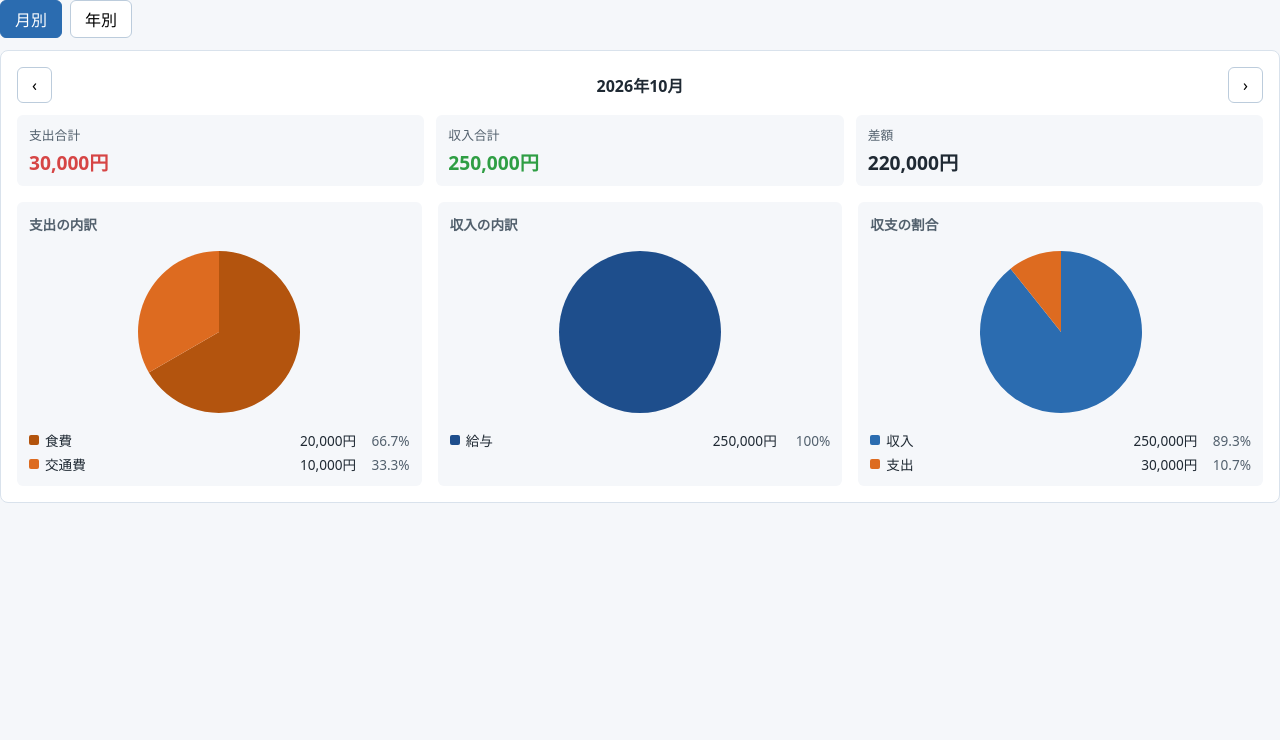
Test case: SummaryView › switches the year
The width and height of the screenshot is (1280, 740).
Click the tab "年別": (101, 19) [70,0,132,38]
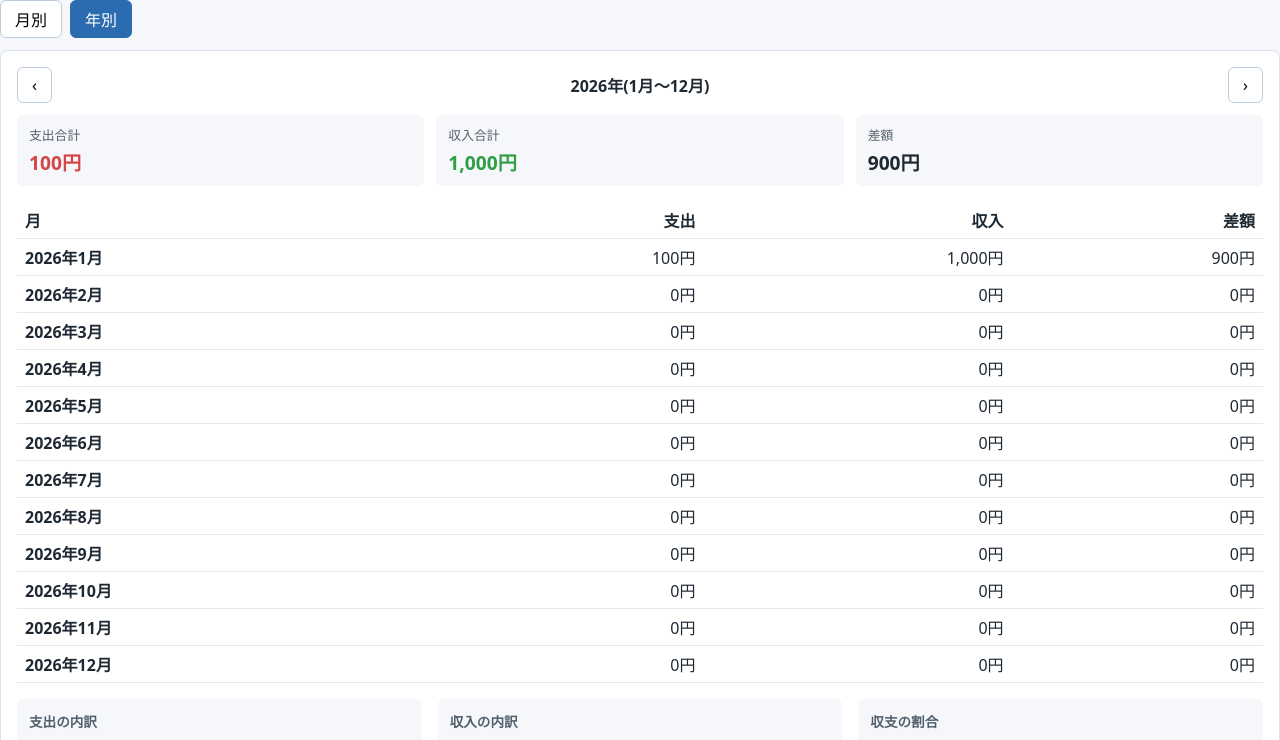
Click the button named "前の年": (34, 85) [17,67,52,103]
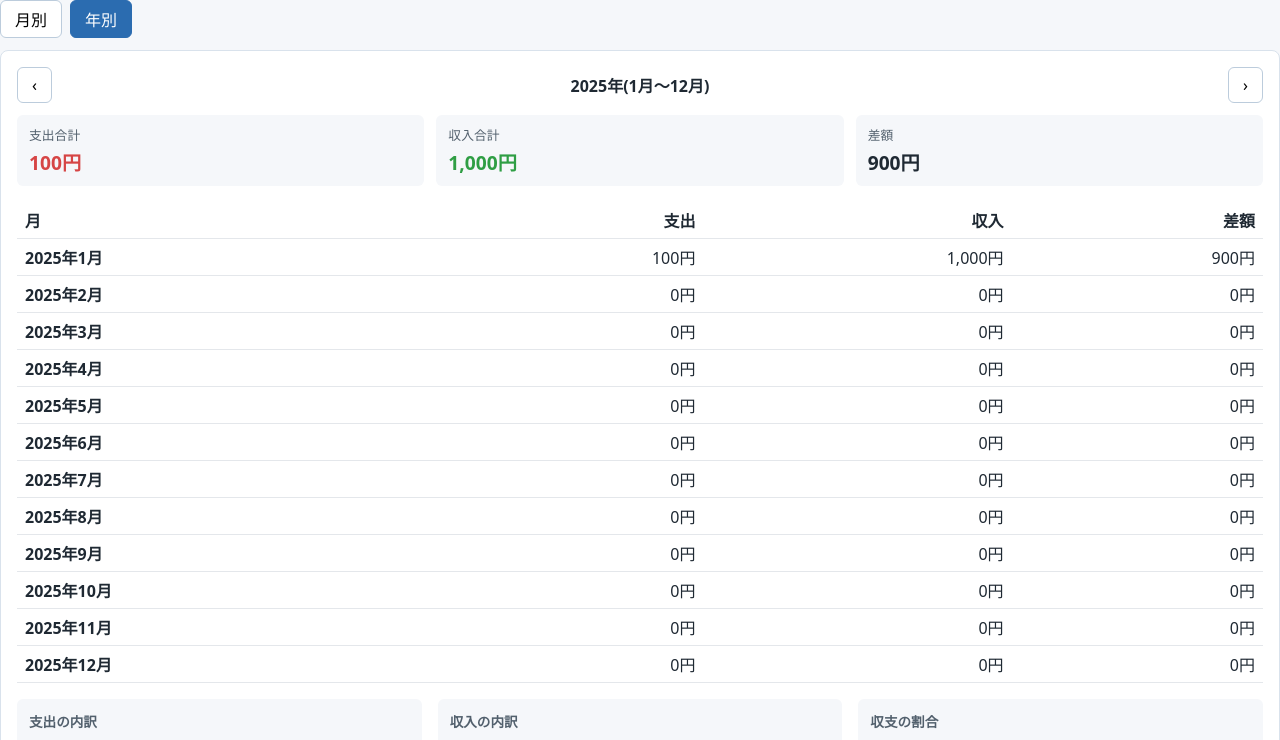
Expected: the text with test id "period" shows "2025年", [570,75,709,97]
